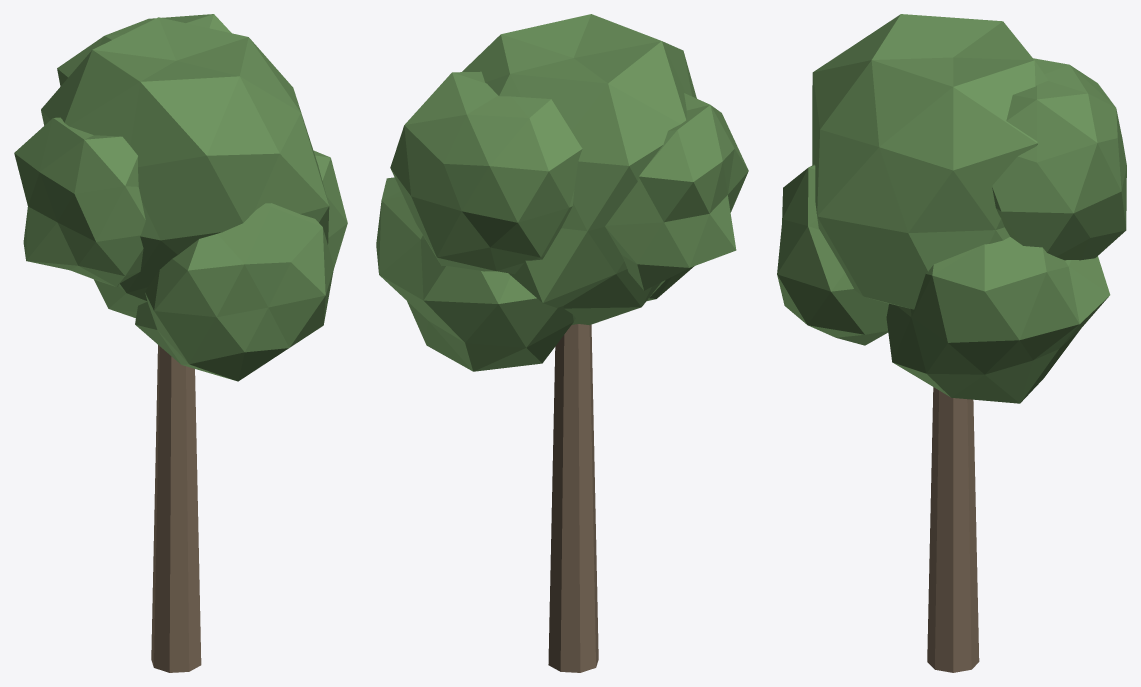
Rendered from tree_tall.glb.
3 renders of one model, left to right at view 1: azimuth 30°, elevation 25°; view 2: azimuth 150°, elevation 25°; view 3: azimuth 270°, elevation 25°, orthographic.
Visible parts, largest first — view 1: tree_tall; view 2: tree_tall; view 3: tree_tall.
Part boxes in pixels (x1,y1,x2,y2): tree_tall: [14, 14, 347, 672]; tree_tall: [376, 14, 748, 672]; tree_tall: [777, 14, 1126, 672].
Size of the model in its own units: 4.37 by 7.86 by 4.03.
